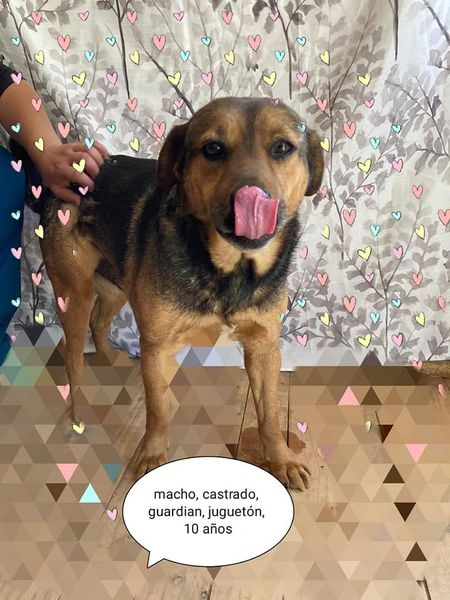dog: (42, 92, 351, 469)
